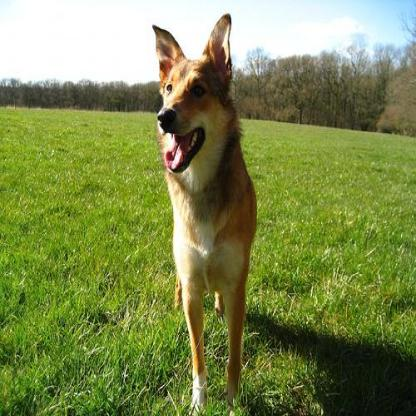kelpie: (147, 10, 257, 414)
